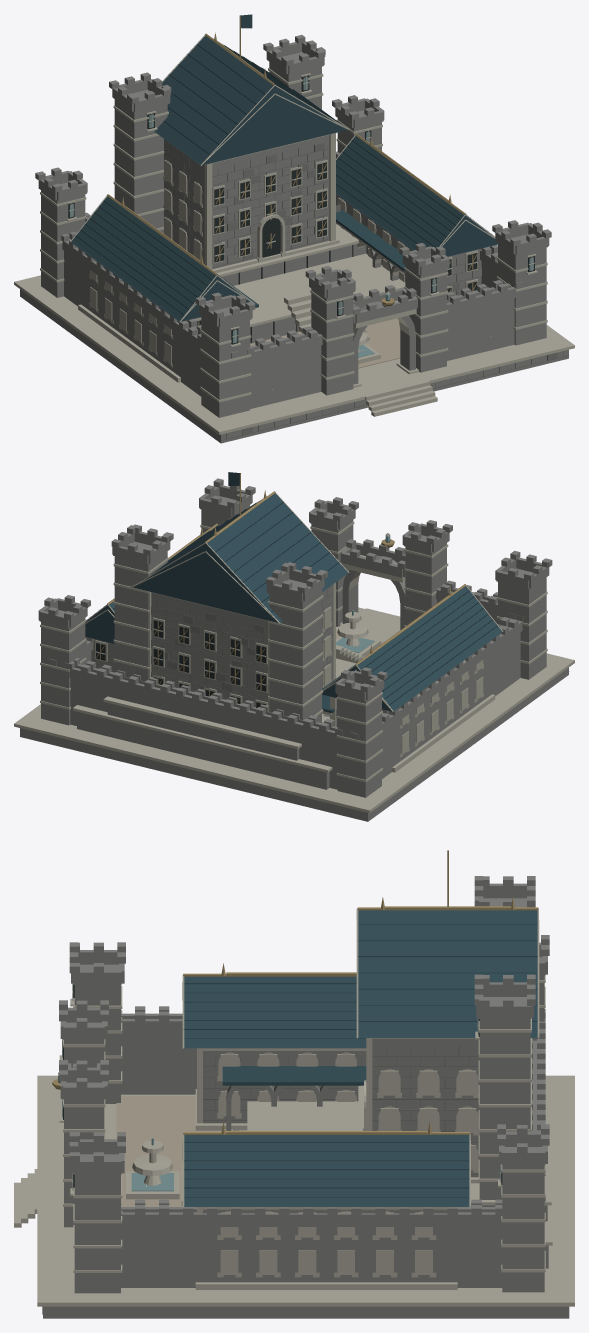
The model's file is mountain.glb.
3 views of the same model, one above another, from view 1: azimuth 30°, elevation 25°; view 2: azimuth 150°, elevation 25°; view 3: azimuth 270°, elevation 25° (orthographic). The views are drawn at different scales.
Visible parts, largest first — view 1: citadel, citadel-roof, precinct-base, inhabited-detail; view 2: citadel, citadel-roof, precinct-base; view 3: citadel, citadel-roof, precinct-base, inhabited-detail.
Part boxes in pixels (bbox=[...]): citadel: bbox=[35, 14, 551, 417]; citadel-roof: bbox=[70, 32, 497, 322]; precinct-base: bbox=[14, 275, 574, 443]; inhabited-detail: bbox=[221, 336, 568, 440]; citadel: bbox=[38, 472, 552, 797]; citadel-roof: bbox=[85, 490, 503, 713]; precinct-base: bbox=[14, 607, 574, 821]; citadel: bbox=[52, 850, 552, 1293]; citadel-roof: bbox=[182, 897, 539, 1207]; precinct-base: bbox=[37, 1075, 574, 1318]; inhabited-detail: bbox=[14, 1169, 42, 1314].
Bounding box in the file's own units: 23.5 × 17.2 × 24.52.
